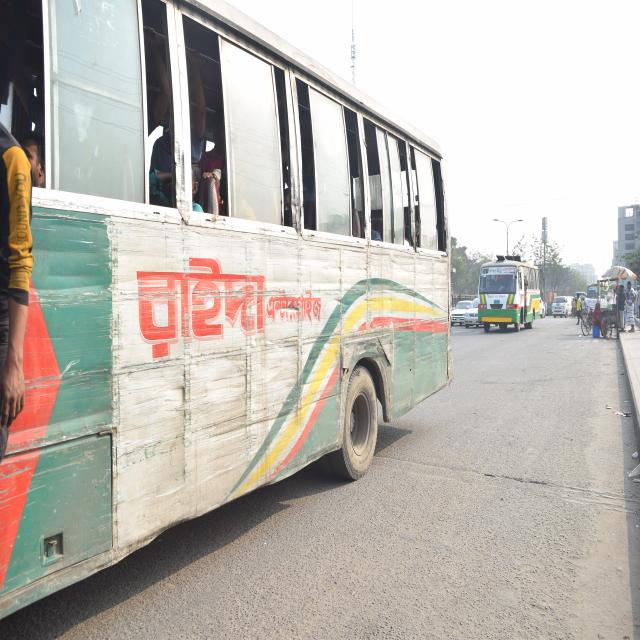bus: (0, 0, 457, 622), (478, 256, 539, 335)
car: (451, 296, 468, 329), (465, 296, 478, 332)
microbus: (553, 292, 573, 321)
